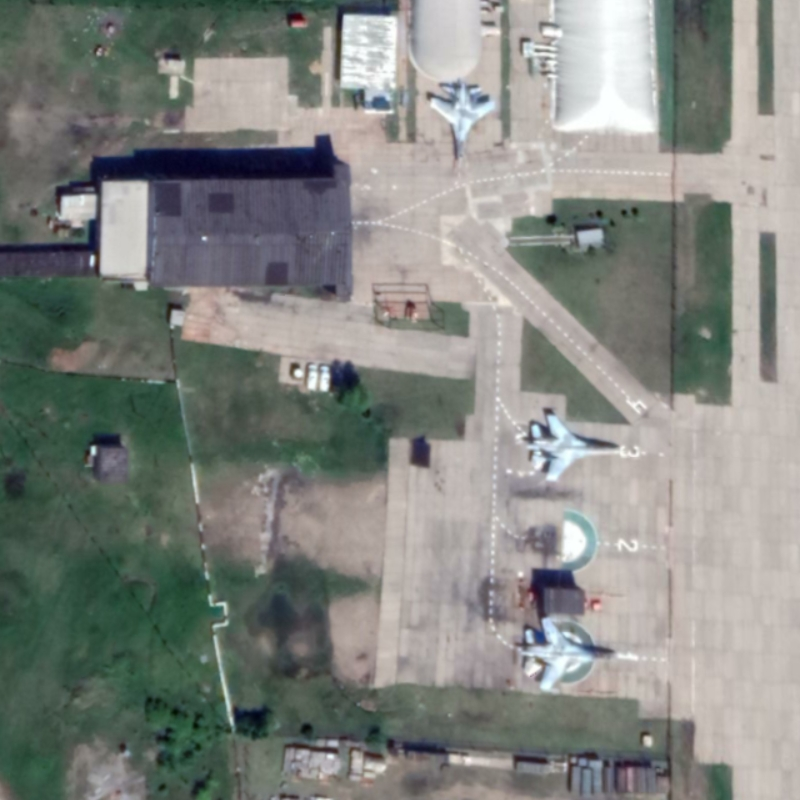A1: (519, 615, 624, 692), (522, 408, 630, 482), (426, 79, 497, 172)
